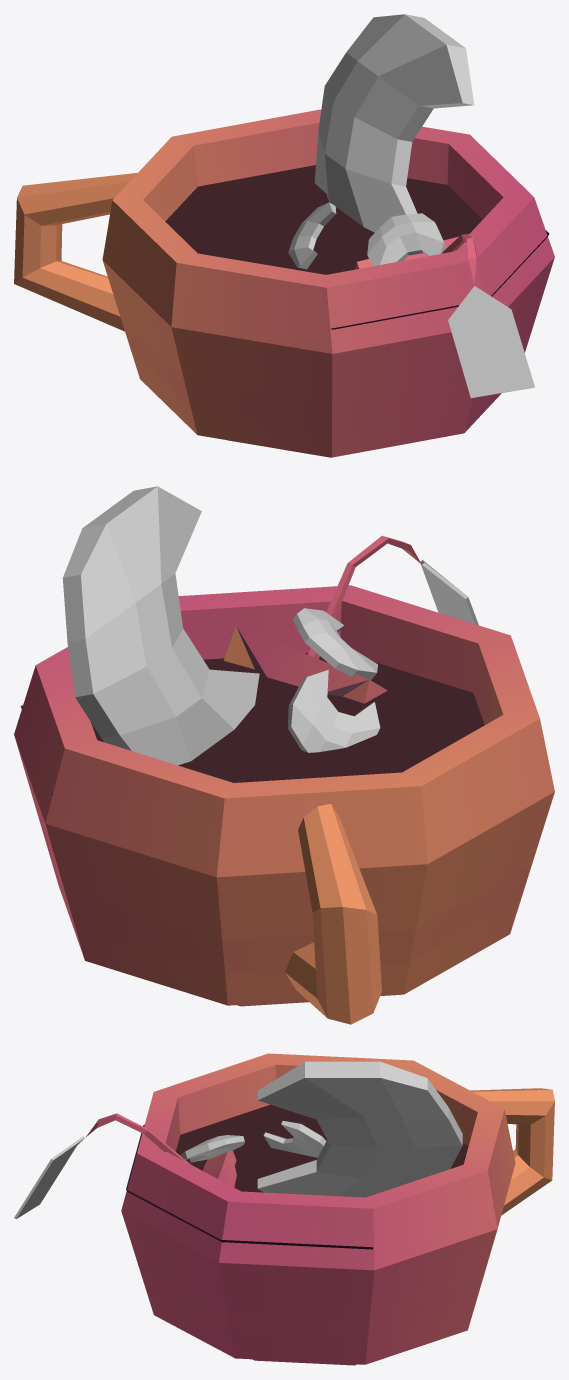
File: Food_MoonMug.fbx
3 views of the same model, one above another, from view 1: azimuth 30°, elevation 25°; view 2: azimuth 150°, elevation 25°; view 3: azimuth 270°, elevation 25° (orthographic). The views are drawn at different scales.
Parts seen in each view (by area): view 1: Cup.007; view 2: Cup.007; view 3: Cup.007.
Boxes of the visible parts, x1=… form: Cup.007: x1=14, y1=14, x2=554, y2=457; Cup.007: x1=14, y1=486, x2=554, y2=1024; Cup.007: x1=14, y1=1053, x2=554, y2=1365.
Size of the model in its own units: 9.68 by 8 by 13.11.
